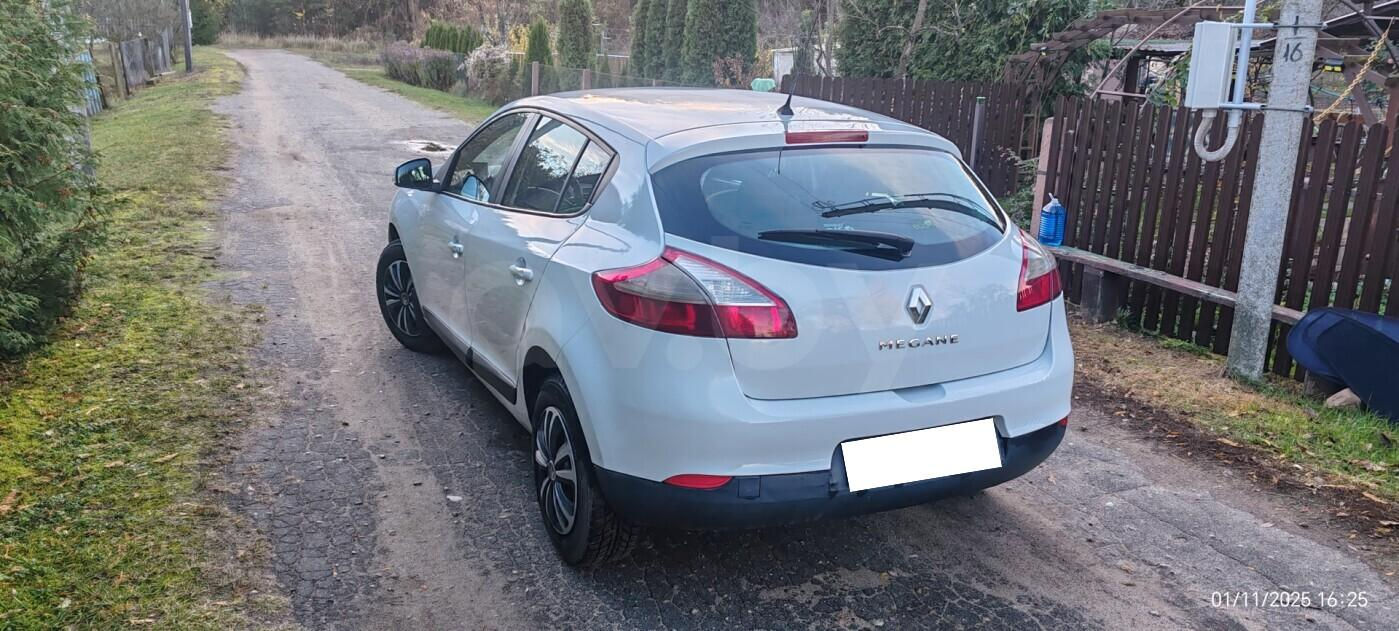Megane_2008-2014: (350, 85, 1083, 570)
